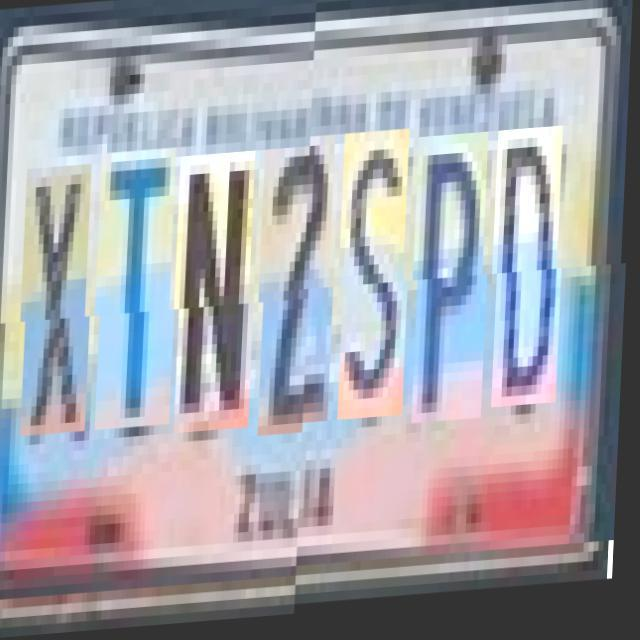2: (262, 150, 342, 440)
D: (496, 144, 570, 426)
N: (178, 154, 262, 436)
P: (415, 150, 495, 440)
S: (341, 144, 416, 436)
T: (99, 150, 183, 432)
X: (24, 165, 99, 437)
